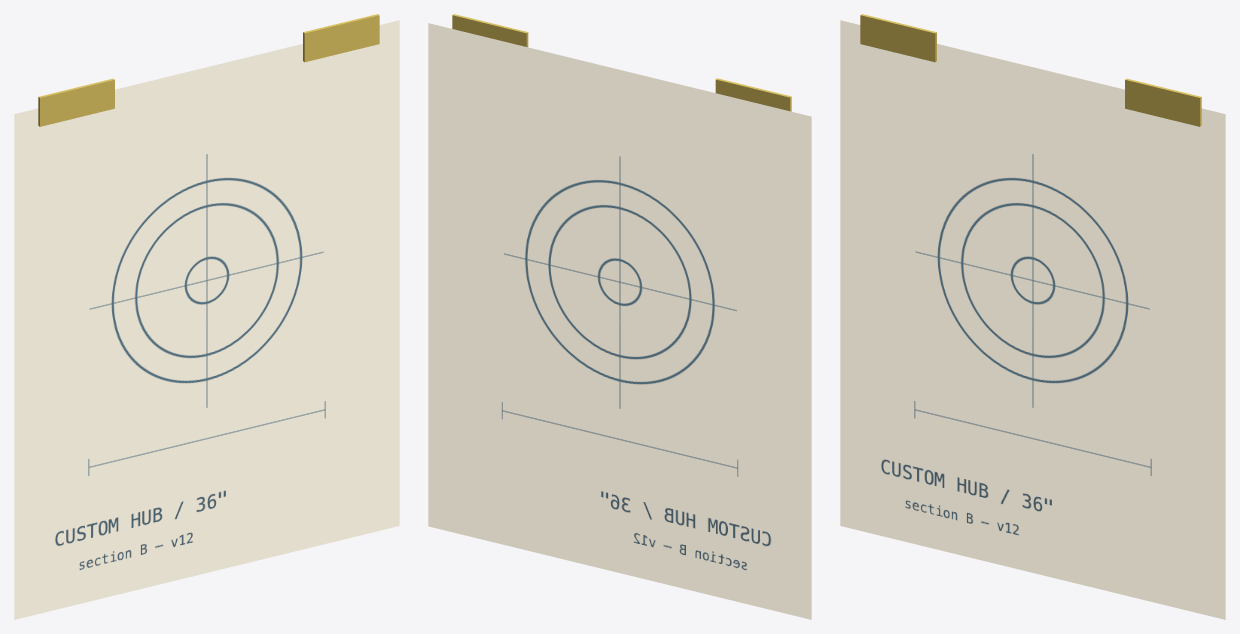
File: engineering-drawing.glb
3 renders of one model, left to right at view 1: azimuth 30°, elevation 25°; view 2: azimuth 150°, elevation 25°; view 3: azimuth 330°, elevation 25°, orthographic.
Visible parts, largest first — view 1: engineering-drawing; view 2: engineering-drawing; view 3: engineering-drawing.
Part boxes in pixels (x1,y1,x2,y2): engineering-drawing: [14, 14, 399, 619]; engineering-drawing: [428, 14, 811, 619]; engineering-drawing: [840, 14, 1225, 619].
Size of the model in its own units: 0.67 by 0.861 by 0.0085.
Materials: 2 (1 with a texture image).
